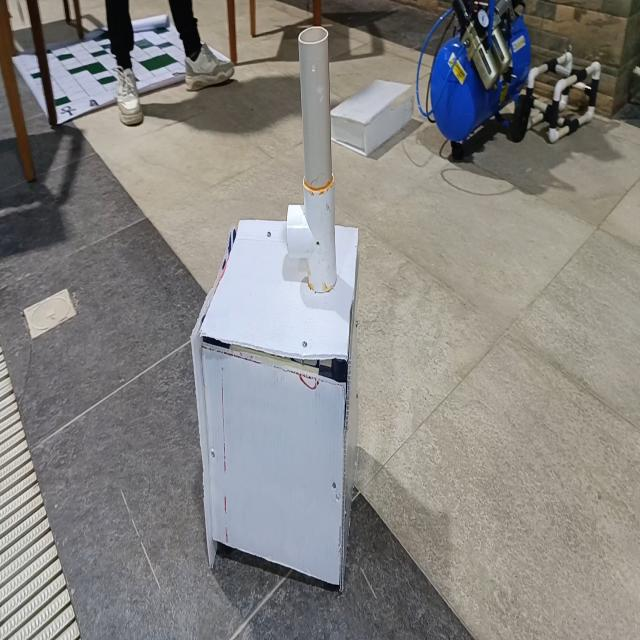Cube: (190, 211, 361, 593)
Cuboid: (330, 77, 414, 157)
